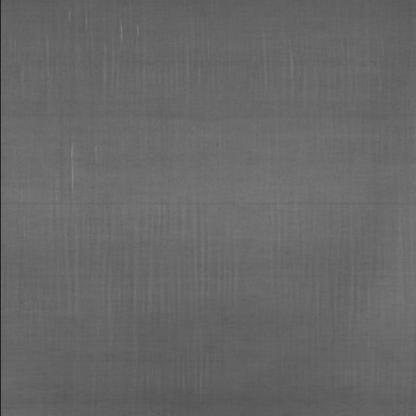waist_folding: (103, 4, 394, 355)
